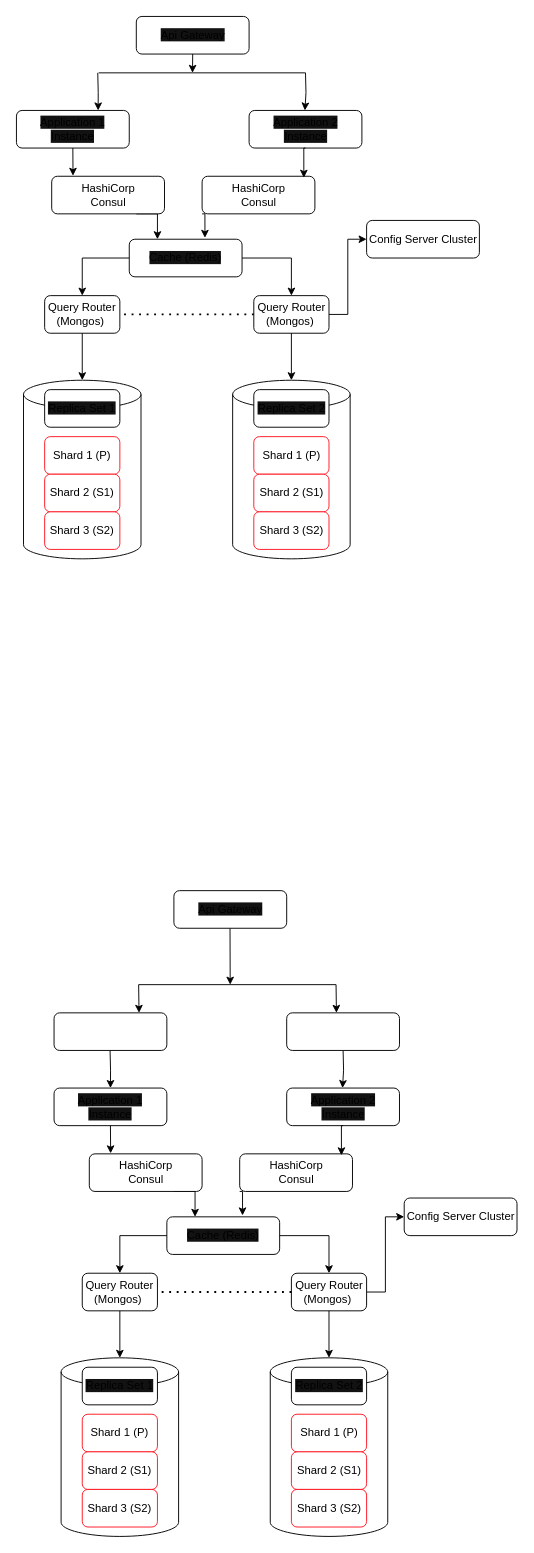
Image size: 534x1553. Some labels were removed from this diagram. Here are the shapes that lost their labels. From the top down, the centre of each, then its label:
the point at 110,1031: CDN Region 1
the point at 343,1031: CDN Region 2
